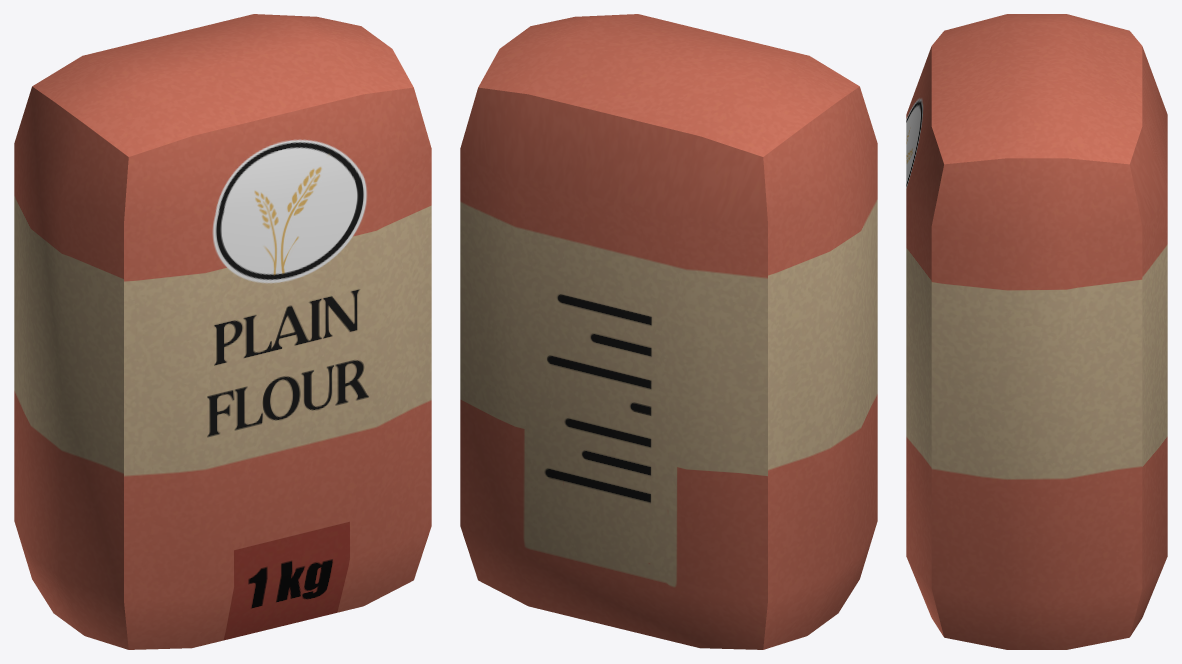
Rendered from Plain flour.fbx.
The picture shows the model from 3 angles, left to right: view 1: azimuth 30°, elevation 25°; view 2: azimuth 150°, elevation 25°; view 3: azimuth 270°, elevation 25°; orthographic projection. The views are drawn at different scales.
Visible parts, largest first — view 1: flour; view 2: flour; view 3: flour.
Part boxes in pixels (x1,y1,x2,y2): flour: (14,14,431,649); flour: (460,14,877,649); flour: (906,14,1167,649).
Size of the model in its own units: 15 by 21.86 by 10.
